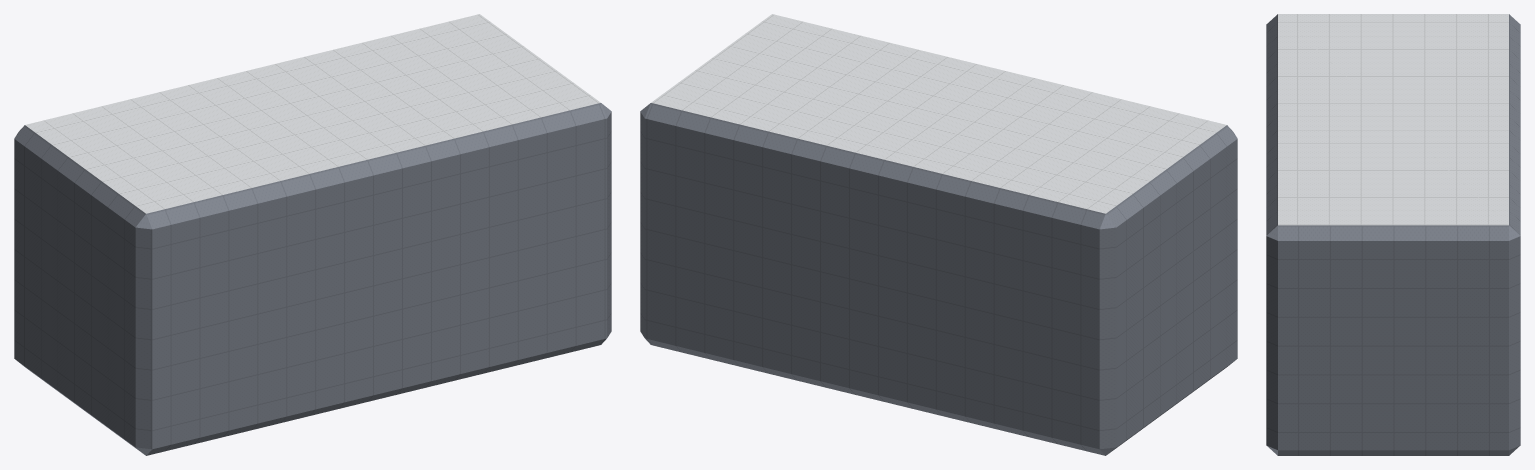
Rendered from R4B_Beam2_LOD1.glb.
3 renders of one model, left to right at view 1: azimuth 30°, elevation 25°; view 2: azimuth 150°, elevation 25°; view 3: azimuth 270°, elevation 25°, orthographic. The views are drawn at different scales.
Parts seen in each view (by area): view 1: R4B_Beam2_LOD1; view 2: R4B_Beam2_LOD1; view 3: R4B_Beam2_LOD1.
Part boxes in pixels (box(x1,y1,x2,y2)): R4B_Beam2_LOD1: box(14, 14, 611, 455); R4B_Beam2_LOD1: box(640, 14, 1237, 455); R4B_Beam2_LOD1: box(1266, 14, 1520, 455).
Bounding box in the file's own units: 1.07 × 0.52 × 0.52.
Materials: 2 (2 with a texture image).
